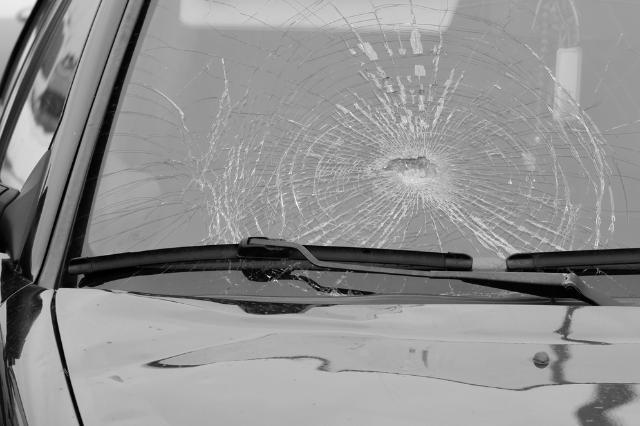Windshield: (72, 0, 640, 301)
